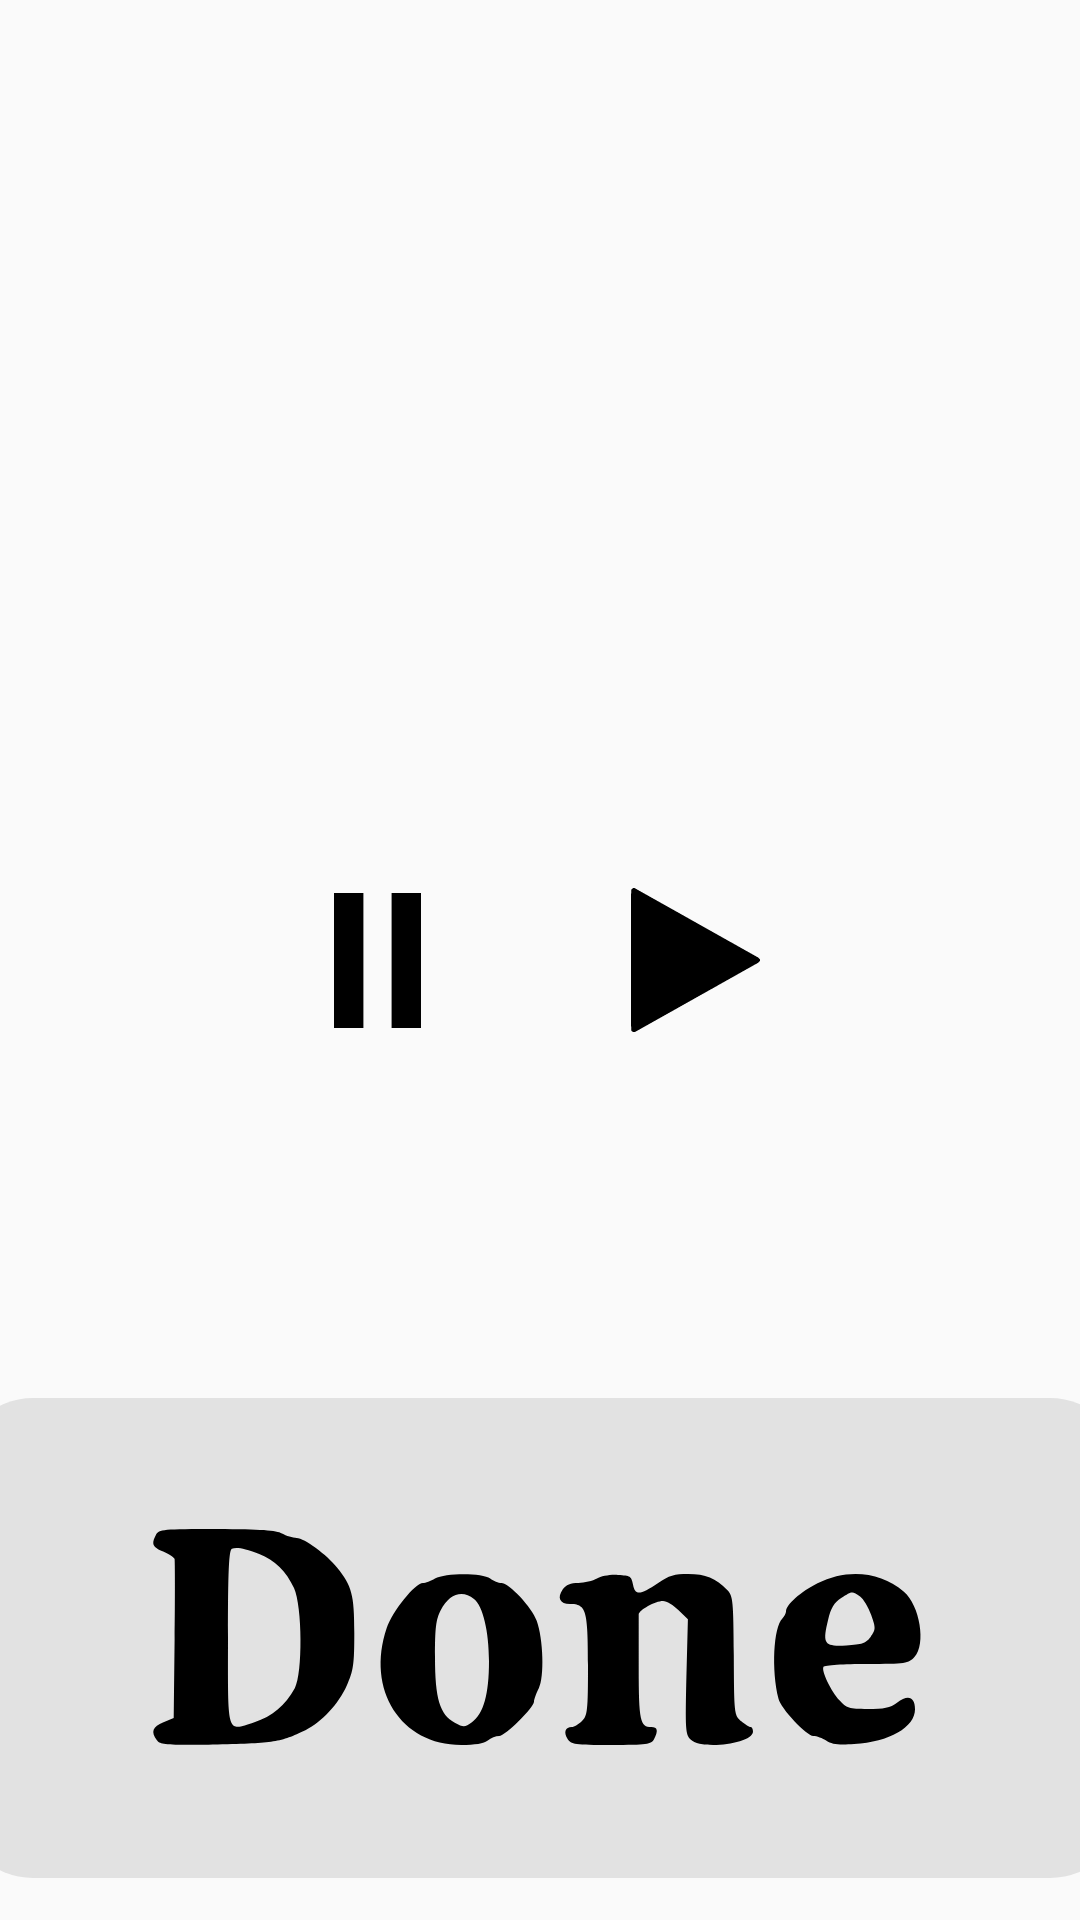

Point at icon controls on the screen. Image size 1080x1920, points as point (x, y).
pause: point (377, 960)
resume: point (695, 960)
